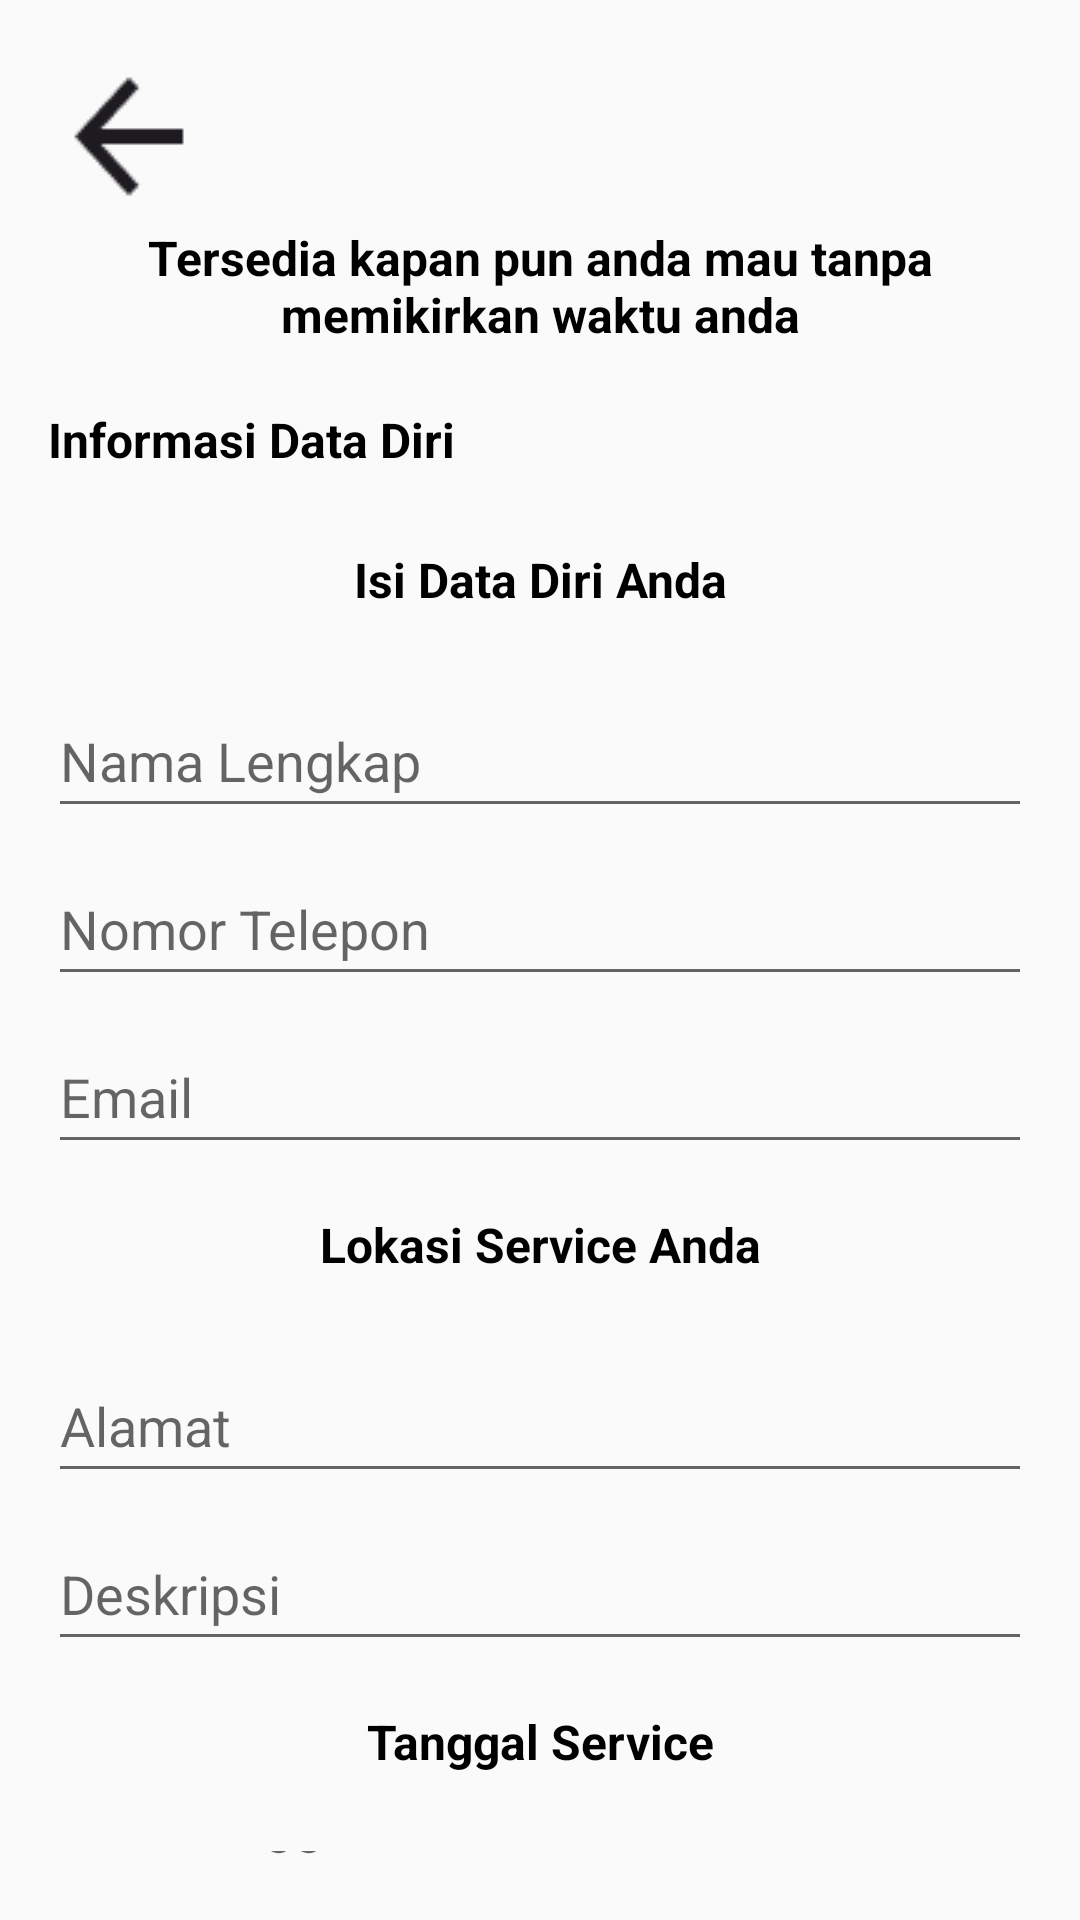

Screen size 1080 × 1920. Icon name, then its box in pixels as bbox=(x1, y1, x2, y2):
Back: bbox=(74, 77, 184, 196)
